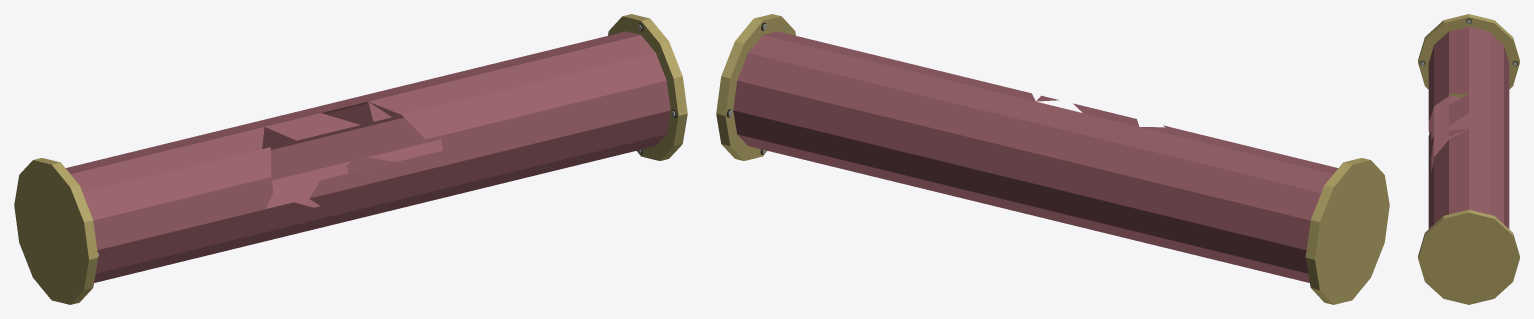
File: Pipe_Long_Broken_H.fbx
3 views of the same model, side by side, from view 1: azimuth 30°, elevation 25°; view 2: azimuth 150°, elevation 25°; view 3: azimuth 270°, elevation 25° (orthographic). The views are drawn at different scales.
Parts seen in each view (by area): view 1: Pipe_Long_damaged_M.001, Cylinder.062, Cylinder.068; view 2: Pipe_Long_damaged_M.001, Cylinder.062, Cylinder.068; view 3: Pipe_Long_damaged_M.001, Cylinder.068, Cylinder.062.
Part boxes in pixels (x1,y1,x2,y2): Pipe_Long_damaged_M.001: [65, 31, 670, 282]; Cylinder.062: [14, 158, 98, 304]; Cylinder.068: [608, 14, 687, 160]; Pipe_Long_damaged_M.001: [733, 31, 1338, 282]; Cylinder.062: [1305, 158, 1389, 304]; Cylinder.068: [716, 14, 795, 160]; Pipe_Long_damaged_M.001: [1428, 26, 1509, 228]; Cylinder.068: [1418, 209, 1519, 304]; Cylinder.062: [1418, 14, 1519, 97].
Bounding box in the file's own units: 70 × 15.16 × 15.16.
